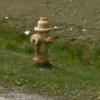Hydrant: (26, 6, 59, 71)
